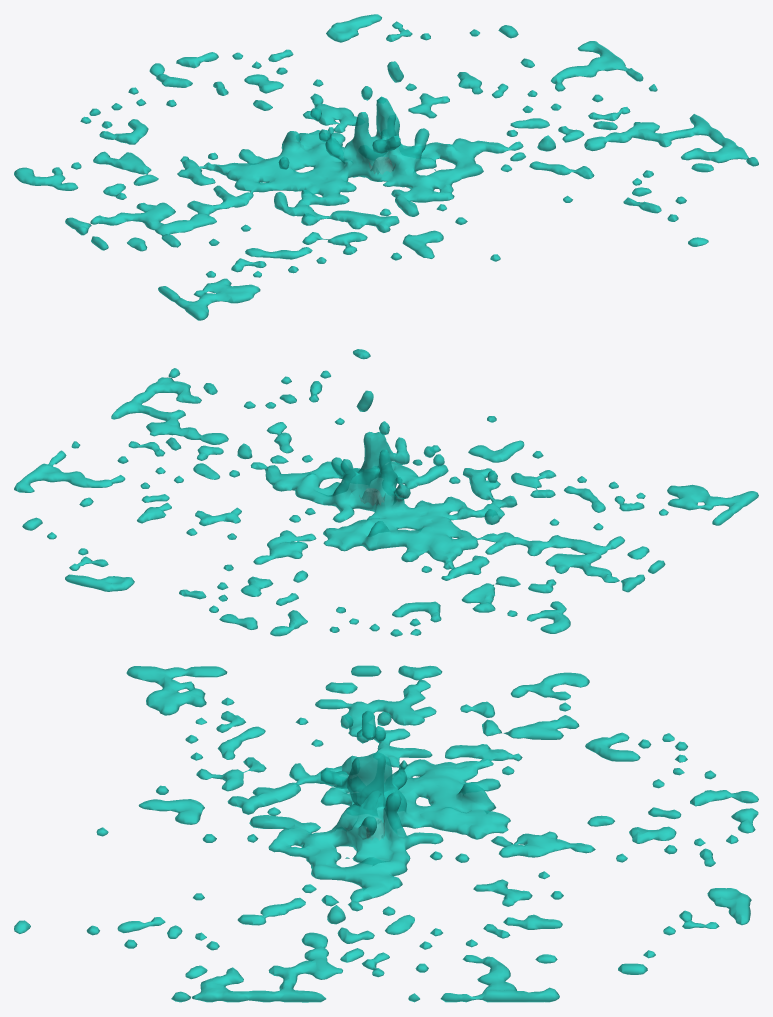
3 views of the same model, one above another, from view 1: azimuth 30°, elevation 25°; view 2: azimuth 150°, elevation 25°; view 3: azimuth 270°, elevation 25° (orthographic). The views are drawn at different scales.
Visible parts, largest first — view 1: Liquid_Domain; view 2: Liquid_Domain; view 3: Liquid_Domain.
Boxes of the visible parts, left/top/right/bottom form: Liquid_Domain: left=14, top=14, right=758, bottom=320; Liquid_Domain: left=14, top=349, right=758, bottom=636; Liquid_Domain: left=14, top=665, right=758, bottom=1002.
Size of the model in its own units: 12.43 by 2.32 by 11.84.
